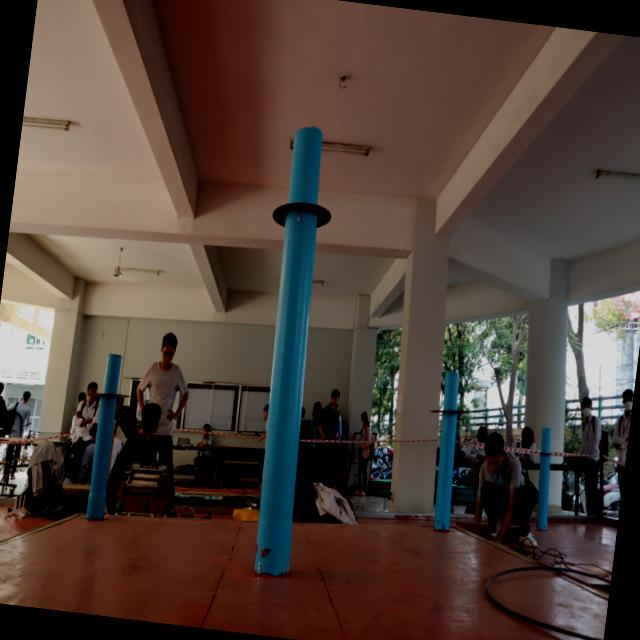pole: (251, 113, 351, 293), (81, 351, 136, 425), (428, 368, 470, 441), (524, 424, 565, 484)
